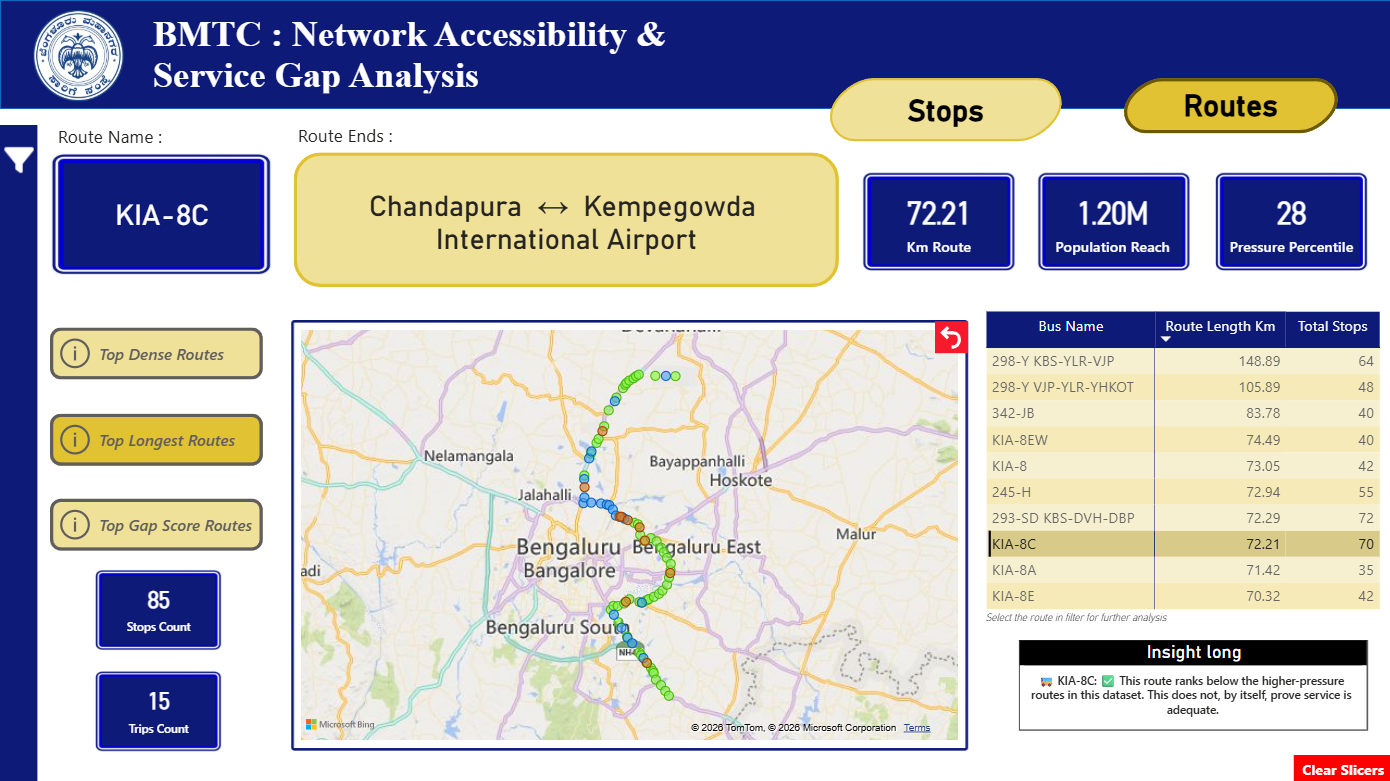

Layout of this report page (visuals, bound fields, positions):
{"tool":"powerbi","page":{"name":"Routes Dashboard","canvas":[1280,720],"ordinal":1},"visuals":[{"type":"shape","title":"bg Shape","box":[0,0,1280,720.3],"z":0},{"type":"image","box":[792.8,158.9,140,90],"z":0,"group":"g1"},{"type":"image","box":[954,158.9,140,90],"z":0,"group":"g2"},{"type":"image","box":[1116.8,158.9,140,90],"z":0,"group":"g3"},{"type":"image","box":[87.7,524.6,116.2,73.4],"z":0,"group":"g5"},{"type":"image","box":[87.7,617.8,116.2,73.4],"z":0,"group":"g4"},{"type":"shape","title":"Filter Strip Shape","box":[0,115.4,34.6,604.5],"z":1000},{"type":"card","fields":{"Values":["Key Measure.Smart Route Length"]},"box":[794,162.5,138.8,82.5],"z":1000,"group":"g1"},{"type":"card","fields":{"Values":["Key Measure.Smart Population Reach"]},"box":[953.8,162.5,138.8,82.5],"z":1000,"group":"g2"},{"type":"card","title":"Pressure Index Card","fields":{"Values":["Key Measure.Pressure Index"]},"box":[1118,162.5,138.8,82.5],"z":1000,"group":"g3"},{"type":"card","fields":{"Values":["Key Measure.Selected Route Stops"]},"box":[104.8,529.5,83.2,58.7],"z":1000,"group":"g5"},{"type":"card","fields":{"Values":["Key Measure.Selected Route Trips"]},"box":[104.8,622.5,83.2,58.7],"z":1000,"group":"g4"},{"type":"shape","box":[270.1,139.7,501.2,123.8],"z":2000},{"type":"image","box":[47.6,140.9,201.2,111.2],"z":3000},{"type":"shape","title":"Header","box":[0,0,1280.3,100.3],"z":4000},{"type":"image","title":"Logo","box":[23.8,8.8,96.2,83.8],"z":5000},{"type":"actionButton","title":"Stops Page Button","box":[752,67.3,236,66],"z":6000},{"type":"actionButton","title":"Routes Page Button","box":[1023.5,67.3,217.7,58.7],"z":7000},{"type":"card","title":"Route Full name Card","fields":{"Values":["Key Measure.Selected Route Full Name"]},"box":[280.1,140.9,481.2,122.5],"z":8000},{"type":"actionButton","title":"Filter Button","box":[0,126.2,35,41.2],"z":10000},{"type":"textbox","title":"BMTC : Network Accessibility & Service Gap Analysis","box":[135.6,11.2,568.5,74.6],"z":11000},{"type":"card","title":"Route Id Card","fields":{"Values":["Key Measure.Selected Route Name"]},"box":[51.3,148.4,195,96.2],"z":12000},{"type":"textbox","title":"Route Name Text box","box":[48.8,109.7,176.2,31.2],"z":13000},{"type":"textbox","title":"Route Ends Text box","box":[268.8,108.4,176.2,31.2],"z":14000},{"type":"group","id":"g1","title":"Route Length Group","box":[792.8,158.9,140,90],"z":15000},{"type":"group","id":"g2","title":"Population Reach Group","box":[953.8,158.9,140.2,90],"z":16000},{"type":"group","id":"g3","title":"Pressure Index Card","box":[1116.8,158.9,140,90],"z":17000},{"type":"actionButton","title":"Top Dense Button","box":[46.2,300.8,195.7,47.7],"z":18000},{"type":"actionButton","title":"Top Longest Button","box":[46.2,379.9,195.7,47.7],"z":19000},{"type":"actionButton","title":"Top Gap Button","box":[46.2,459,195.7,47.7],"z":20000},{"type":"pivotTable","title":"Sq Matrix","fields":{"Rows":["route_stop_mapping.stop_sequence"],"Values":["Min(stops_for_powerbi.name)","Key Measure.Clean Distance"]},"box":[863.3,277.6,417,310.6],"z":21000},{"type":"group","id":"g4","title":"Trip Count Group","box":[87.7,617.8,116.2,73.4],"z":25000},{"type":"group","id":"g5","title":"Stops Count Group","box":[87.7,524.6,116.2,73.4],"z":26000},{"type":"card","title":"Insight sq","fields":{"Values":["Key Measure.Route Insights Narrative"]},"box":[895.7,598.3,353.3,83.3],"z":27000},{"type":"map","title":"Map - sq","fields":{"Series":["stops_for_powerbi.status"],"X":["stops_for_powerbi.lon"],"Y":["stops_for_powerbi.lat"]},"box":[268.4,294.3,574.2,396.8],"z":27500},{"type":"actionButton","title":"Back Button sq","box":[812.3,295.8,30.3,28.9],"z":28000},{"type":"actionButton","title":"Clear Slicer Button","box":[1189.2,694.1,90.8,26.1],"z":47000}]}

Visuals, with their boxes in screenshot pixels (x1, y1, x2, y2), scaled from the page's 1280x720 canvas onto the 1390x781 screenshot:
"bg Shape" shape: (x1=0, y1=0, x2=1389, y2=780)
image: (x1=861, y1=172, x2=1013, y2=270)
image: (x1=1036, y1=172, x2=1188, y2=270)
image: (x1=1213, y1=172, x2=1365, y2=270)
image: (x1=95, y1=569, x2=221, y2=649)
image: (x1=95, y1=670, x2=221, y2=750)
"Filter Strip Shape" shape: (x1=0, y1=125, x2=38, y2=780)
card - Key Measure.Smart Route Length: (x1=862, y1=176, x2=1013, y2=266)
card - Key Measure.Smart Population Reach: (x1=1036, y1=176, x2=1186, y2=266)
"Pressure Index Card" card: (x1=1214, y1=176, x2=1365, y2=266)
card - Key Measure.Selected Route Stops: (x1=114, y1=574, x2=204, y2=638)
card - Key Measure.Selected Route Trips: (x1=114, y1=675, x2=204, y2=739)
shape: (x1=293, y1=152, x2=838, y2=286)
image: (x1=52, y1=153, x2=270, y2=273)
"Header" shape: (x1=0, y1=0, x2=1389, y2=109)
"Logo" image: (x1=26, y1=10, x2=130, y2=100)
"Stops Page Button" actionButton: (x1=817, y1=73, x2=1073, y2=145)
"Routes Page Button" actionButton: (x1=1111, y1=73, x2=1348, y2=137)
"Route Full name Card" card: (x1=304, y1=153, x2=827, y2=286)
"Filter Button" actionButton: (x1=0, y1=137, x2=38, y2=182)
"BMTC : Network Accessibility & Service Gap Analysis" textbox: (x1=147, y1=12, x2=765, y2=93)
"Route Id Card" card: (x1=56, y1=161, x2=267, y2=265)
"Route Name Text box" textbox: (x1=53, y1=119, x2=244, y2=153)
"Route Ends Text box" textbox: (x1=292, y1=118, x2=483, y2=151)
"Route Length Group" group: (x1=861, y1=172, x2=1013, y2=270)
"Population Reach Group" group: (x1=1036, y1=172, x2=1188, y2=270)
"Pressure Index Card" group: (x1=1213, y1=172, x2=1365, y2=270)
"Top Dense Button" actionButton: (x1=50, y1=326, x2=263, y2=378)
"Top Longest Button" actionButton: (x1=50, y1=412, x2=263, y2=464)
"Top Gap Button" actionButton: (x1=50, y1=498, x2=263, y2=550)
"Sq Matrix" pivotTable: (x1=937, y1=301, x2=1389, y2=638)
"Trip Count Group" group: (x1=95, y1=670, x2=221, y2=750)
"Stops Count Group" group: (x1=95, y1=569, x2=221, y2=649)
"Insight sq" card: (x1=973, y1=649, x2=1356, y2=739)
"Map - sq" map: (x1=291, y1=319, x2=915, y2=750)
"Back Button sq" actionButton: (x1=882, y1=321, x2=915, y2=352)
"Clear Slicer Button" actionButton: (x1=1291, y1=753, x2=1389, y2=780)
